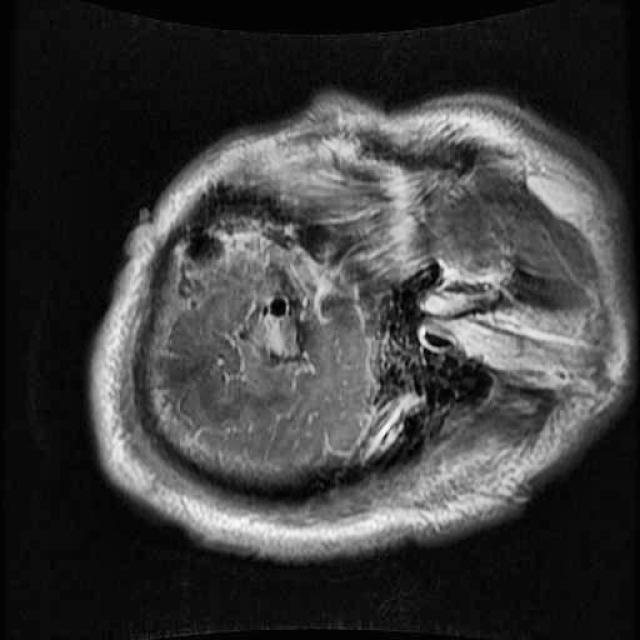Non-Tumor: (238, 281, 319, 376)
